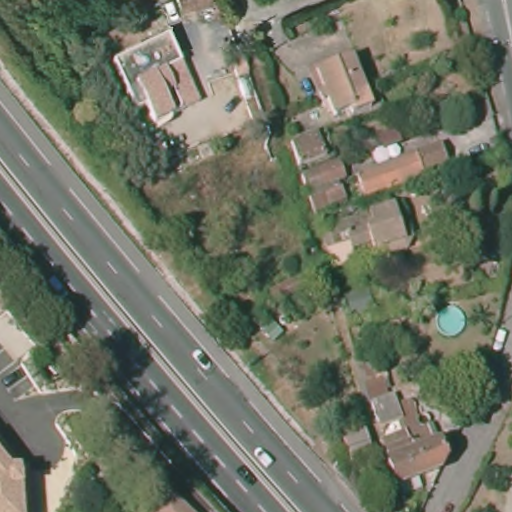pool: (426, 297, 469, 338)
